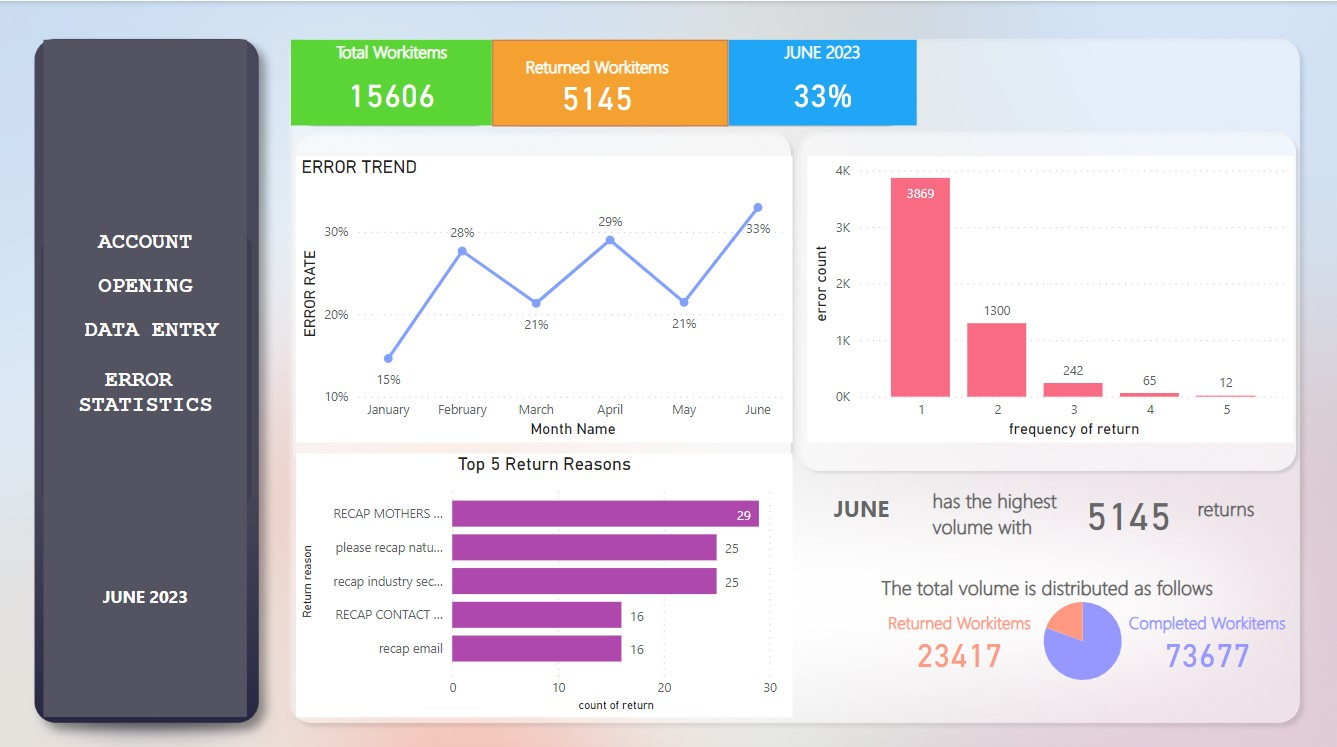

This screenshot's page, from the dashboard's own definition file:
{"tool":"powerbi","page":{"name":"Details","canvas":[1280,720],"ordinal":0},"visuals":[{"type":"shape","box":[472.7,37.2,224.9,82.1],"z":0,"group":"g1"},{"type":"card","fields":{"Values":["MEASURES_A.Max Returns Count by Month"]},"box":[1017.9,460.2,120.9,54.9],"z":0},{"type":"textbox","box":[886,457.6,152.2,62],"z":1000},{"type":"card","title":"Returned Workitems","fields":{"Values":["MEASURES_A.Returned_Workitems"]},"box":[490.6,51.5,164.2,58.3],"z":2000,"group":"g1"},{"type":"textbox","box":[1138.5,465.7,96.5,50.8],"z":2000},{"type":"pieChart","fields":{"Y":["Sum(TOTAL_WI_COUNT.TOTAL_WI_CNT)","Sum(TOTAL_WI_COUNT.RETURNED_WI_CNT)"]},"box":[981.1,558,108.4,102.9],"z":2000,"group":"g2"},{"type":"columnChart","fields":{"Y":["Sum(TOTAL_WI_COUNT.TOTAL_WI_CNT)","Sum(TOTAL_WI_COUNT.RETURNED_WI_CNT)"],"Category":["TOTAL_WI_COUNT.MNTH.Variation.Datumshierarchie.Monat"]},"box":[295,553,362.3,123.5],"z":3000},{"type":"textbox","box":[786.6,138,279.7,45.2],"z":4000},{"type":"textbox","box":[838.4,539.9,358.3,37.2],"z":4000,"group":"g2"},{"type":"columnChart","fields":{"Category":["DEO ERROR ALL.RETURNED_IDs"],"Y":["CountNonNull(DEO ERROR ALL.RETURNED_IDs)"]},"box":[772.9,147.1,462.9,272.9],"z":5000},{"type":"textbox","box":[45.2,36.9,194,645],"z":6000},{"type":"card","title":"Returned Workitems","fields":{"Values":["MEASURES_A.Returned_Workitems"]},"box":[843.9,580,146.8,59],"z":6000,"group":"g2"},{"type":"card","title":"Completed Workitems","fields":{"Values":["MEASURES_A.Completed_Workitems"]},"box":[1074.4,580,159.2,59],"z":7000,"group":"g2"},{"type":"textbox","box":[749.8,462.9,148.8,51.2],"z":8000},{"type":"clusteredBarChart","title":"Top 5 Return Reasons","fields":{"Category":["DEO ERROR ALL.REMARKS"],"Y":["CountNonNull(DEO ERROR ALL.ZONE)"]},"box":[285.3,431.4,472.7,250.8],"z":9000},{"type":"card","title":"Total  Workitems","fields":{"Values":["MEASURES_A.Total_Workitems"]},"box":[281.1,37.2,191.6,81.3],"z":10000},{"type":"card","title":"JUNE 2023","fields":{"Values":["MEASURES_A.ERROR RATE"]},"box":[697.3,37.2,179.2,81.3],"z":11000},{"type":"lineChart","title":"ERROR TREND","fields":{"Y":["MEASURES_A.ERROR RATE"],"Category":["TOTAL_WI_COUNT.Month Name"]},"box":[285.3,147.5,472.7,272.9],"z":12000},{"type":"group","id":"g1","title":"Group 1","box":[472.7,37.2,226,81.3],"z":13000},{"type":"group","id":"g2","title":"Group 2","box":[838.4,539.9,395.2,121.1],"z":14000}]}

Visuals, with their boxes in screenshot pixels (x1, y1, x2, y2), scaled from the page's 1280x720 canvas onto the 1337x747 screenshot:
shape: x1=494, y1=39, x2=729, y2=124
card - MEASURES_A.Max Returns Count by Month: x1=1063, y1=477, x2=1190, y2=534
textbox: x1=925, y1=475, x2=1084, y2=539
"Returned Workitems" card: x1=512, y1=53, x2=684, y2=114
textbox: x1=1189, y1=483, x2=1290, y2=536
pieChart - Sum(TOTAL_WI_COUNT.TOTAL_WI_CNT) x Sum(TOTAL_WI_COUNT.RETURNED_WI_CNT): x1=1025, y1=579, x2=1138, y2=686
columnChart - Sum(TOTAL_WI_COUNT.TOTAL_WI_CNT) x Sum(TOTAL_WI_COUNT.RETURNED_WI_CNT): x1=308, y1=574, x2=687, y2=702
textbox: x1=822, y1=143, x2=1114, y2=190
textbox: x1=876, y1=560, x2=1250, y2=599
columnChart - DEO ERROR ALL.RETURNED_IDs x CountNonNull(DEO ERROR ALL.RETURNED_IDs): x1=807, y1=153, x2=1291, y2=436
textbox: x1=47, y1=38, x2=250, y2=707
"Returned Workitems" card: x1=881, y1=602, x2=1035, y2=663
"Completed Workitems" card: x1=1122, y1=602, x2=1289, y2=663
textbox: x1=783, y1=480, x2=939, y2=533
"Top 5 Return Reasons" clusteredBarChart: x1=298, y1=448, x2=792, y2=708
"Total  Workitems" card: x1=294, y1=39, x2=494, y2=123
"JUNE 2023" card: x1=728, y1=39, x2=916, y2=123
"ERROR TREND" lineChart: x1=298, y1=153, x2=792, y2=436
"Group 1" group: x1=494, y1=39, x2=730, y2=123
"Group 2" group: x1=876, y1=560, x2=1289, y2=686
